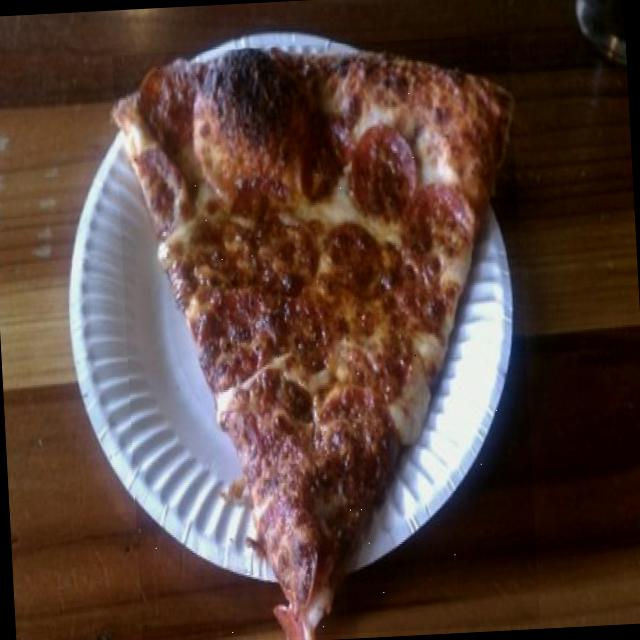pizza: (115, 49, 513, 636)
